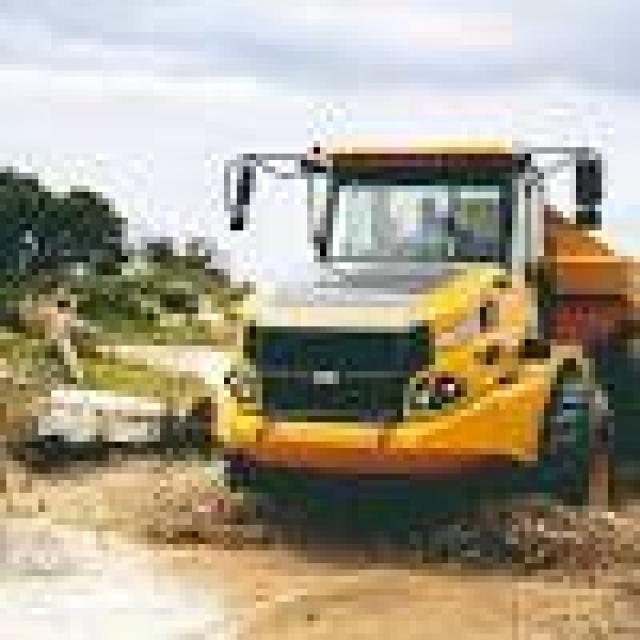dump_truck: (160, 64, 634, 602)
